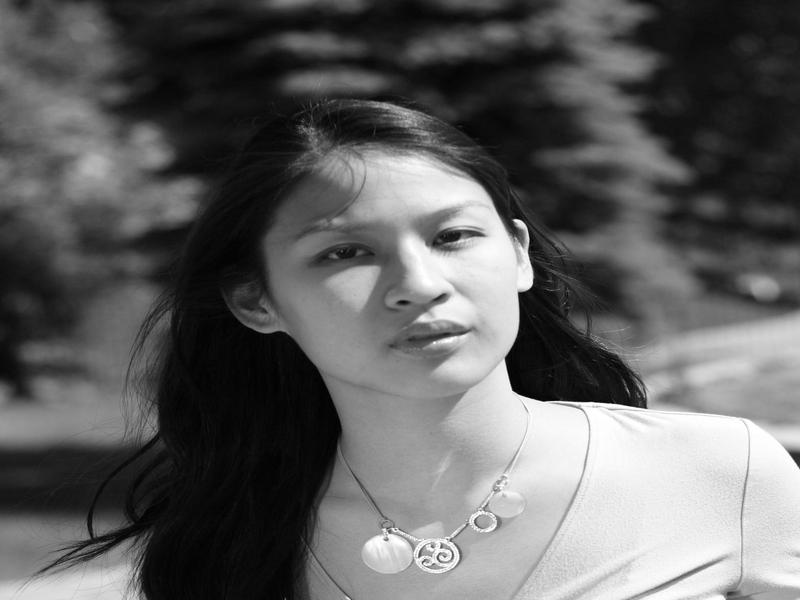person: (119, 100, 799, 600)
